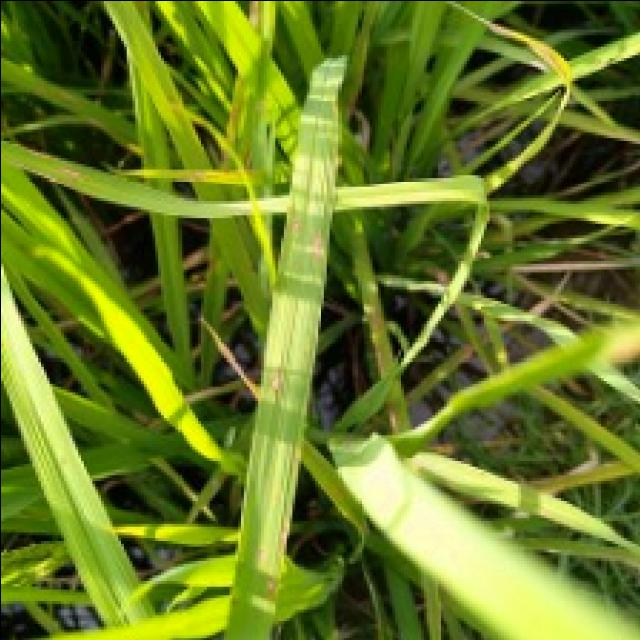Unhealthy: (200, 316, 258, 397), (274, 515, 290, 564), (371, 341, 384, 380), (310, 230, 322, 260), (269, 363, 282, 390), (366, 310, 383, 328), (254, 547, 266, 567), (265, 577, 278, 595), (286, 215, 301, 230), (388, 413, 396, 428)
